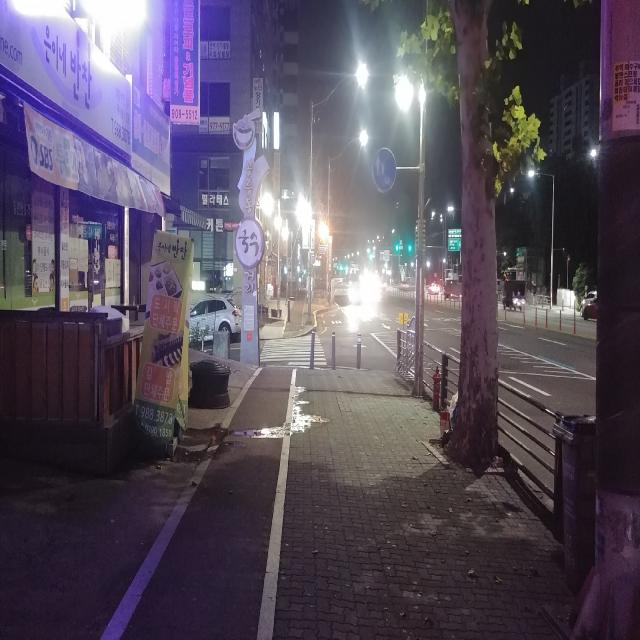횡단보도: (260, 334, 327, 366)
